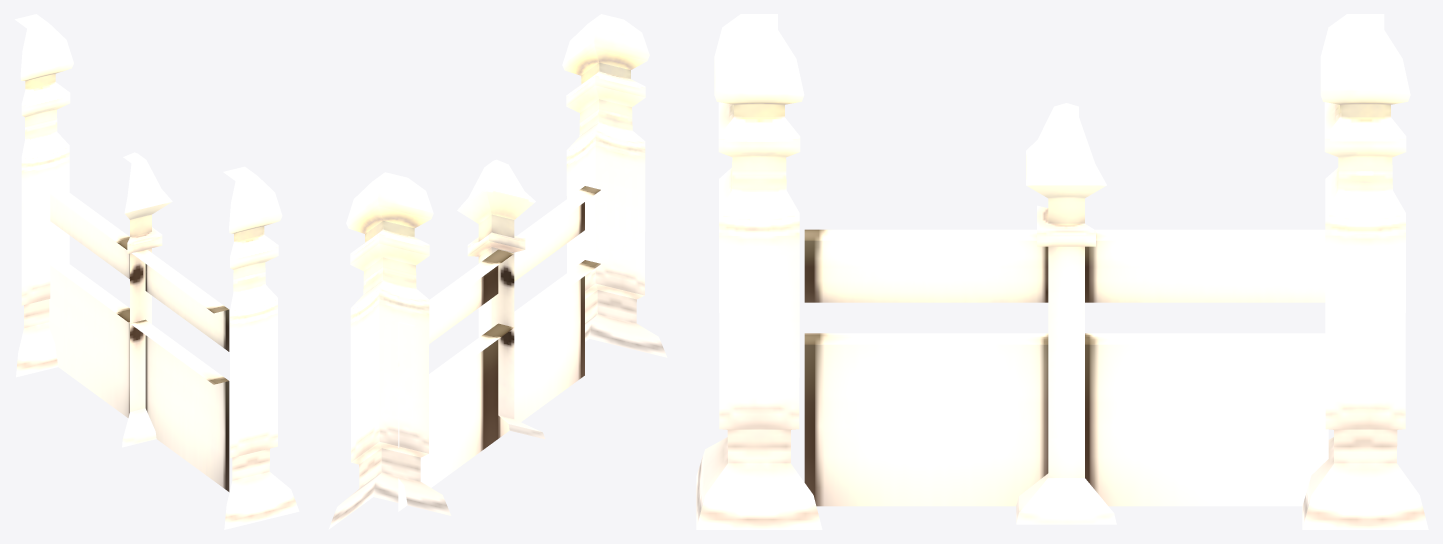
File: LineDeco_Fence(Y).fbx
The picture shows the model from 3 angles, left to right: view 1: azimuth 30°, elevation 25°; view 2: azimuth 150°, elevation 25°; view 3: azimuth 270°, elevation 25°; orthographic projection. The views are drawn at different scales.
Parts seen in each view (by area): view 1: Deco_Fence_Line(Y); view 2: Deco_Fence_Line(Y); view 3: Deco_Fence_Line(Y).
Part boxes in pixels (x1=…): Deco_Fence_Line(Y): x1=15, y1=14, x2=299, y2=529; Deco_Fence_Line(Y): x1=328, y1=14, x2=667, y2=529; Deco_Fence_Line(Y): x1=696, y1=14, x2=1428, y2=529.
Size of the model in its own units: 58.74 by 247 by 341.
